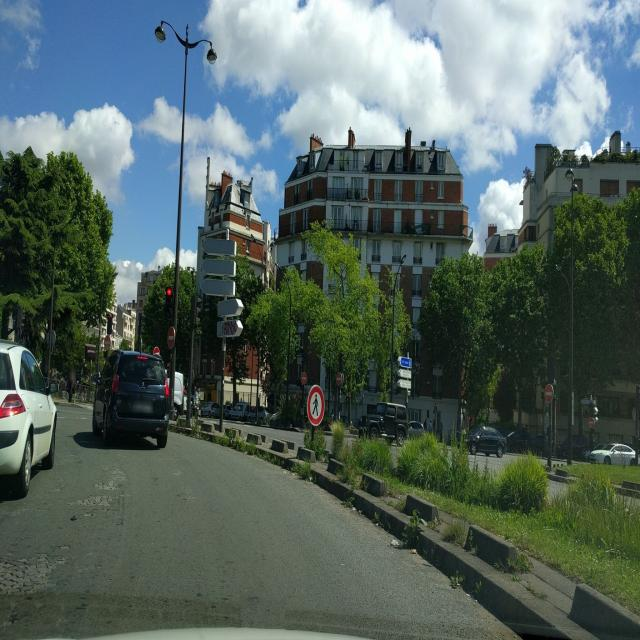car: (0, 338, 57, 500), (92, 349, 170, 448), (353, 403, 408, 441), (466, 425, 506, 456), (587, 443, 636, 466), (226, 401, 250, 420)
